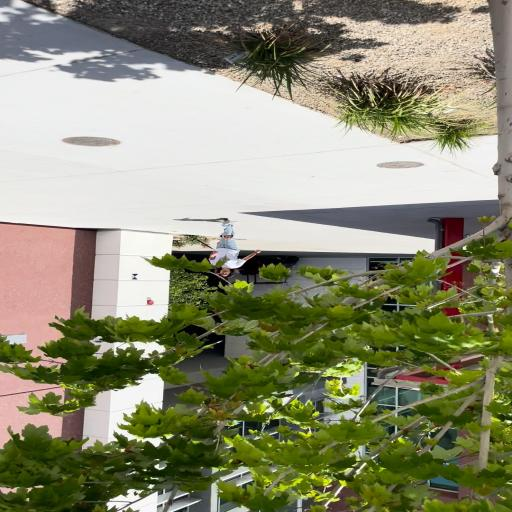target6: (131, 273, 139, 280)
